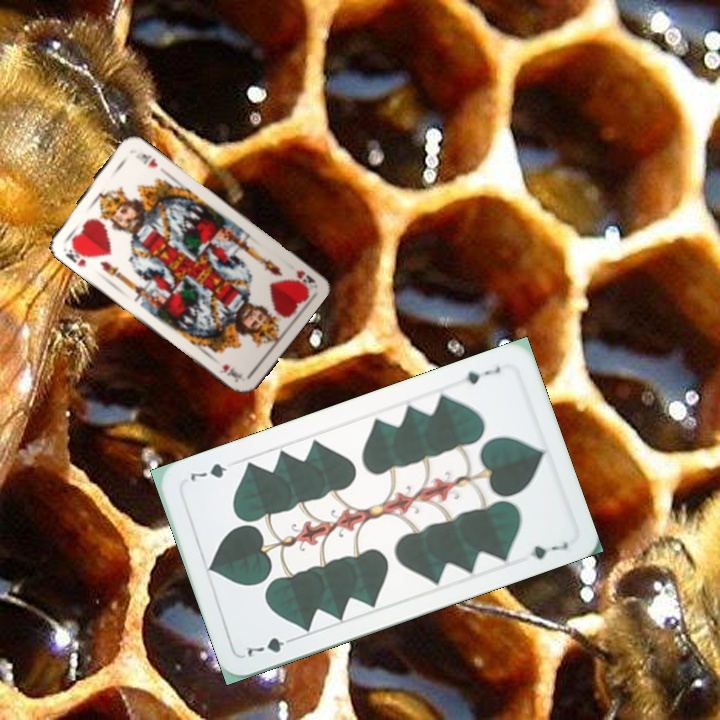G7: (241, 633, 299, 660), (461, 362, 503, 387)
HK: (59, 240, 92, 270), (292, 266, 318, 291)
